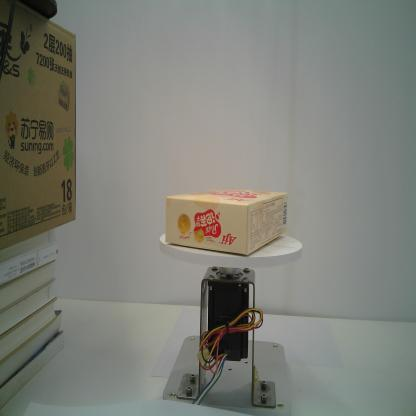Dessert: (165, 188, 289, 256)
